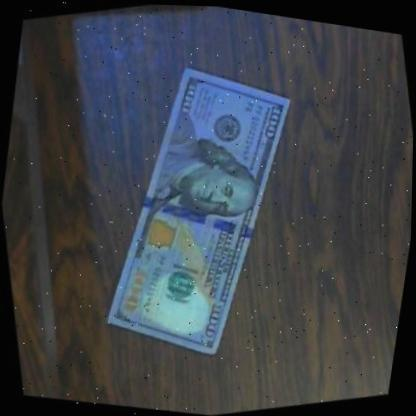one_hundred-front: (32, 21, 356, 401)
